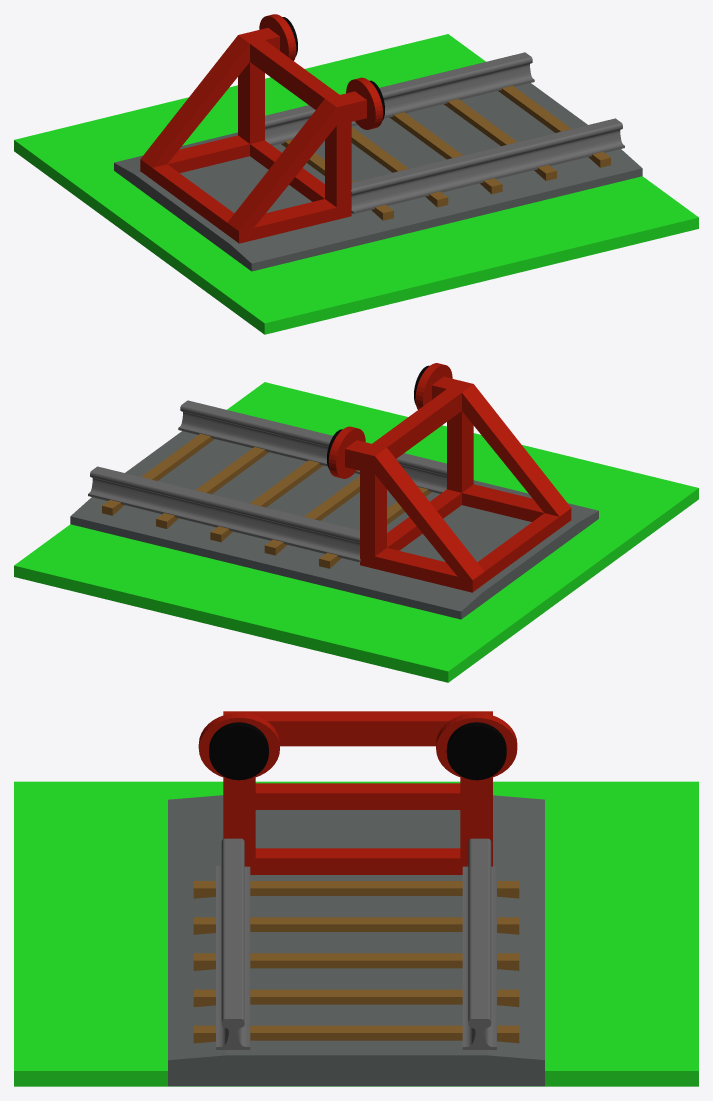
File: fin_voie_chemin_de_fer.fbx
3 views of the same model, one above another, from view 1: azimuth 30°, elevation 25°; view 2: azimuth 150°, elevation 25°; view 3: azimuth 270°, elevation 25° (orthographic). The views are drawn at different scales.
Parts seen in each view (by area): view 1: Sol, Basalt, tampon_chemin_de_fer, Rail2.001, Rail2, Bois2.003, Bois2.004, Bois2.005, Bois2.002, Bois2.001; view 2: Sol, Basalt, tampon_chemin_de_fer, Rail2, Rail2.001, Bois2.003, Bois2.004, Bois2.005, Bois2.002, Bois2.001; view 3: Sol, Basalt, tampon_chemin_de_fer, Rail2.001, Rail2, Bois2.005, Bois2.004, Bois2.003, Bois2.002, Bois2.001, TamponGauche, TamponDroit.
Boxes of the visible parts, bbox=[...] form: Sol: bbox=[14, 34, 698, 334]; Basalt: bbox=[114, 83, 642, 271]; tampon_chemin_de_fer: bbox=[140, 14, 383, 243]; Rail2.001: bbox=[351, 118, 624, 213]; Rail2: bbox=[265, 52, 534, 145]; Bois2.003: bbox=[389, 112, 502, 194]; Bois2.004: bbox=[444, 99, 556, 180]; Bois2.005: bbox=[498, 85, 610, 167]; Bois2.002: bbox=[351, 127, 448, 207]; Bois2.001: bbox=[281, 139, 393, 220]; Sol: bbox=[14, 382, 698, 682]; Basalt: bbox=[70, 431, 598, 619]; tampon_chemin_de_fer: bbox=[328, 363, 571, 592]; Rail2: bbox=[88, 466, 360, 562]; Rail2.001: bbox=[178, 400, 446, 493]; Bois2.003: bbox=[210, 460, 323, 542]; Bois2.004: bbox=[156, 447, 268, 528]; Bois2.005: bbox=[102, 433, 214, 515]; Bois2.002: bbox=[264, 476, 359, 555]; Bois2.001: bbox=[319, 487, 431, 568]; Sol: bbox=[14, 781, 698, 1086]; Basalt: bbox=[168, 795, 544, 1086]; tampon_chemin_de_fer: bbox=[198, 711, 517, 874]; Rail2.001: bbox=[216, 838, 250, 1049]; Rail2: bbox=[462, 838, 496, 1049]; Bois2.005: bbox=[193, 1025, 519, 1043]; Bois2.004: bbox=[193, 989, 519, 1006]; Bois2.003: bbox=[193, 953, 519, 970]; Bois2.002: bbox=[193, 917, 519, 934]; Bois2.001: bbox=[193, 881, 519, 898]; TamponGauche: bbox=[209, 722, 268, 780]; TamponDroit: bbox=[446, 722, 506, 780].
Size of the model in its own units: 400 by 132 by 400.
